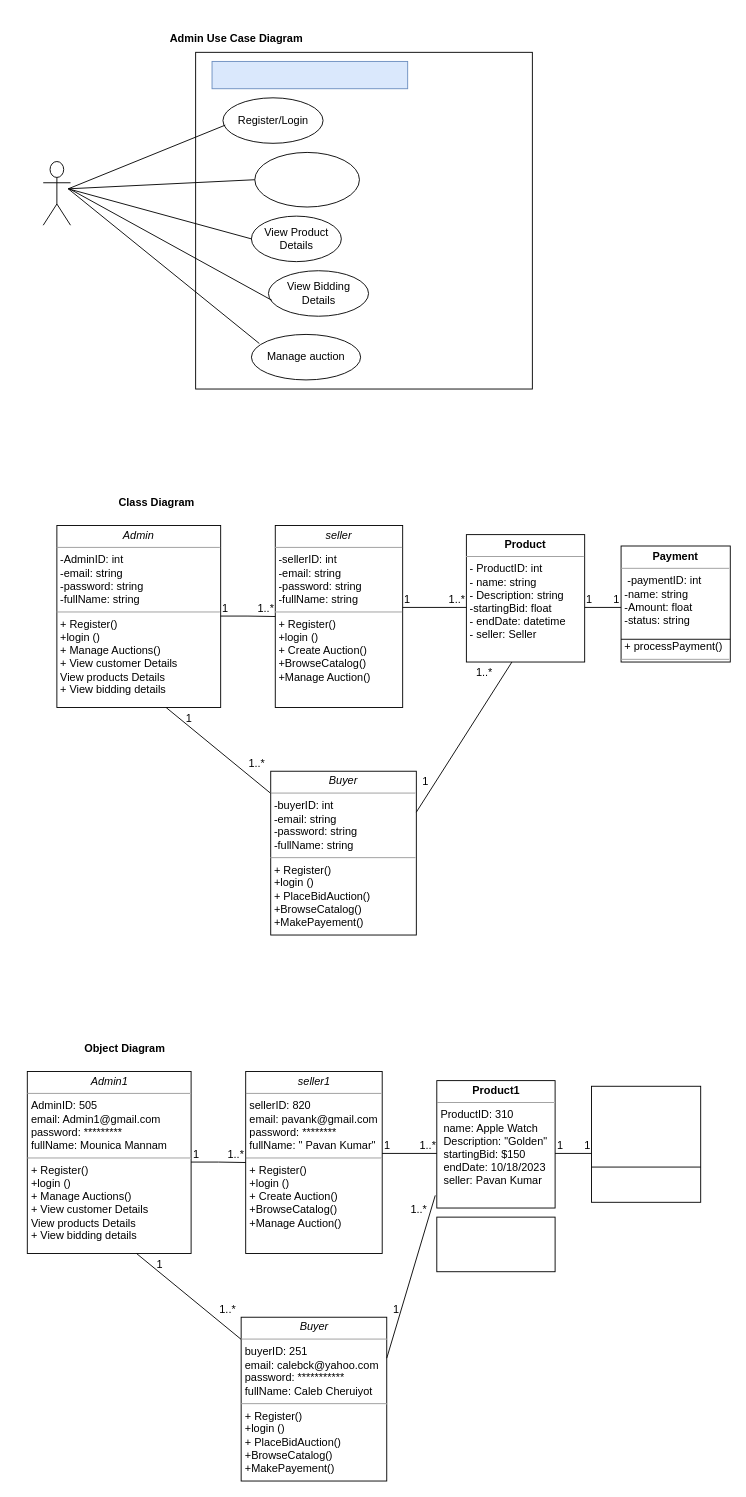
This 746x1497 diagram has some shape labels left out. Each missing label, with the centre of its shape:
Admin: (56,193)
Online Bidding System Auction Page: (309,75)
Payment paymentID: 4285 Amount: $300 status: "Paid" + processPayment(): (646,1143)
Product2 --: (495,1244)
View customer details: (306,179)
